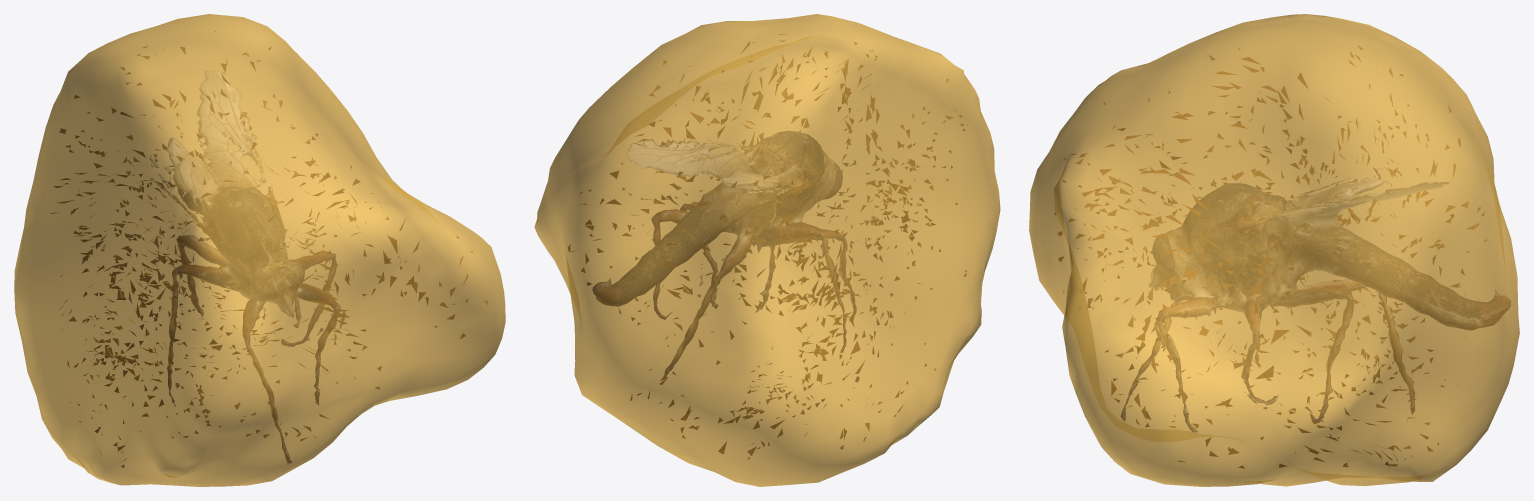
3 renders of one model, left to right at view 1: azimuth 30°, elevation 25°; view 2: azimuth 150°, elevation 25°; view 3: azimuth 270°, elevation 25°, orthographic. The views are drawn at different scales.
Parts seen in each view (by area): view 1: 5_amber_lr, 2_mosquito_lr, 6_eclats; view 2: 5_amber_lr, 2_mosquito_lr, 6_eclats; view 3: 5_amber_lr, 2_mosquito_lr, 6_eclats.
Part boxes in pixels (left/top/right/bottom): 5_amber_lr: left=14, top=14, right=505, bottom=486; 2_mosquito_lr: left=97, top=70, right=345, bottom=464; 6_eclats: left=51, top=31, right=487, bottom=467; 5_amber_lr: left=534, top=14, right=1000, bottom=486; 2_mosquito_lr: left=592, top=131, right=856, bottom=377; 6_eclats: left=568, top=34, right=967, bottom=458; 5_amber_lr: left=1029, top=14, right=1519, bottom=486; 2_mosquito_lr: left=1121, top=163, right=1510, bottom=432; 6_eclats: left=1055, top=45, right=1487, bottom=468.
Size of the model in its own units: 87.92 by 99.67 by 97.25.
